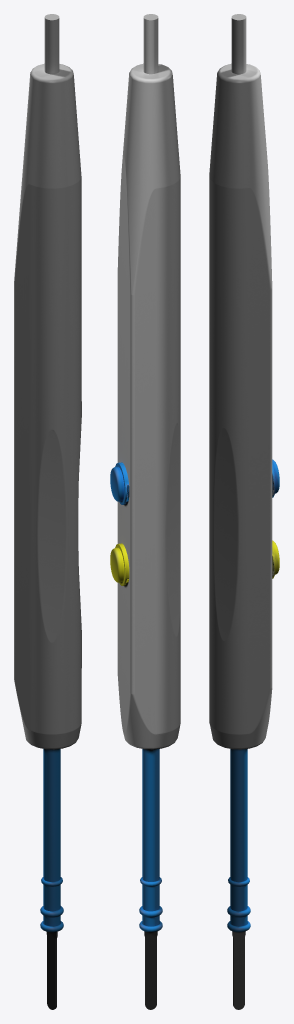
The model's file is bovie_pen_01.obj.
3 views of the same model, side by side, from view 1: azimuth 90°, elevation 25°; view 2: azimuth 150°, elevation 25°; view 3: azimuth 330°, elevation 25° (orthographic).
Visible parts, largest first — view 1: bovie002; view 2: bovie002; view 3: bovie002.
Part boxes in pixels (x1,y1,x2,y2): bovie002: [14, 14, 81, 1009]; bovie002: [110, 14, 180, 1009]; bovie002: [209, 14, 279, 1009].
Bounding box in the file's own units: 0.568 × 9.19 × 0.5681.
Materials: 1 (1 with a texture image).
